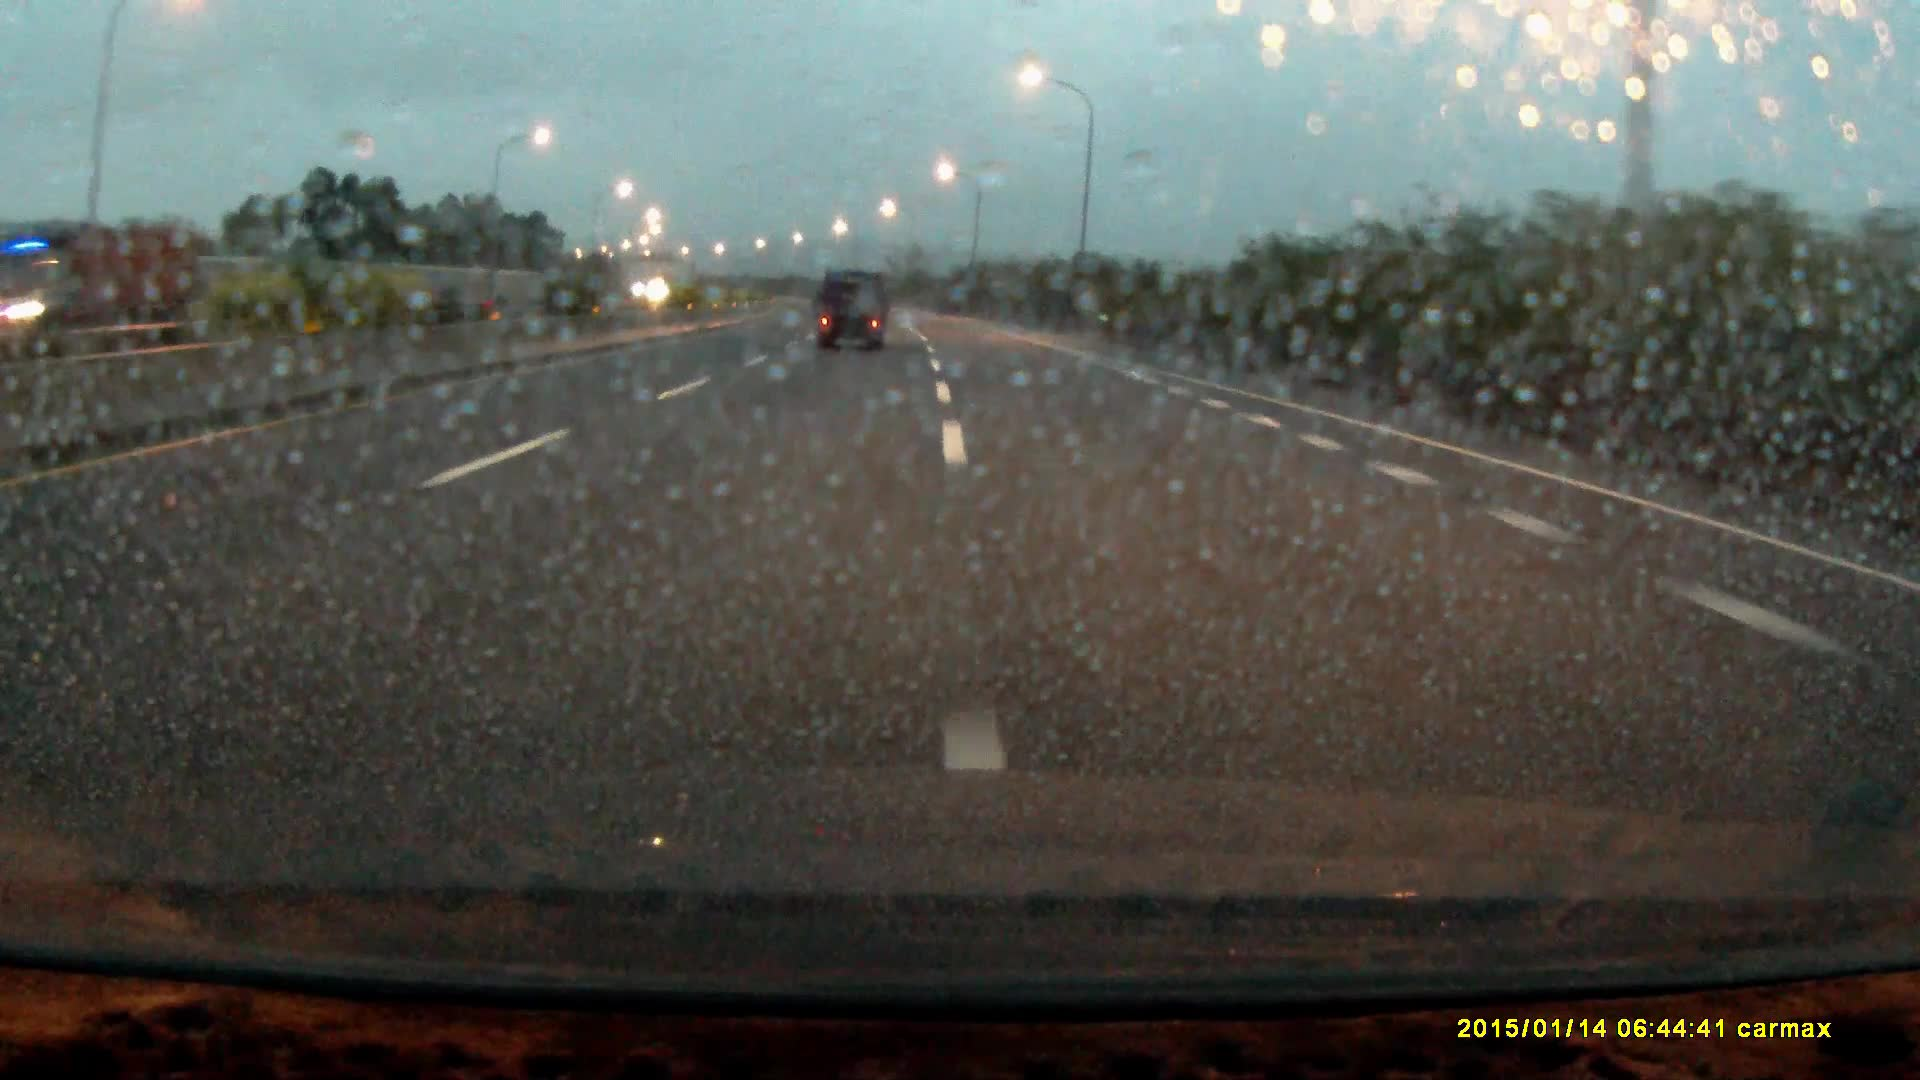vehicle: (17, 225, 223, 323), (814, 266, 889, 351)
